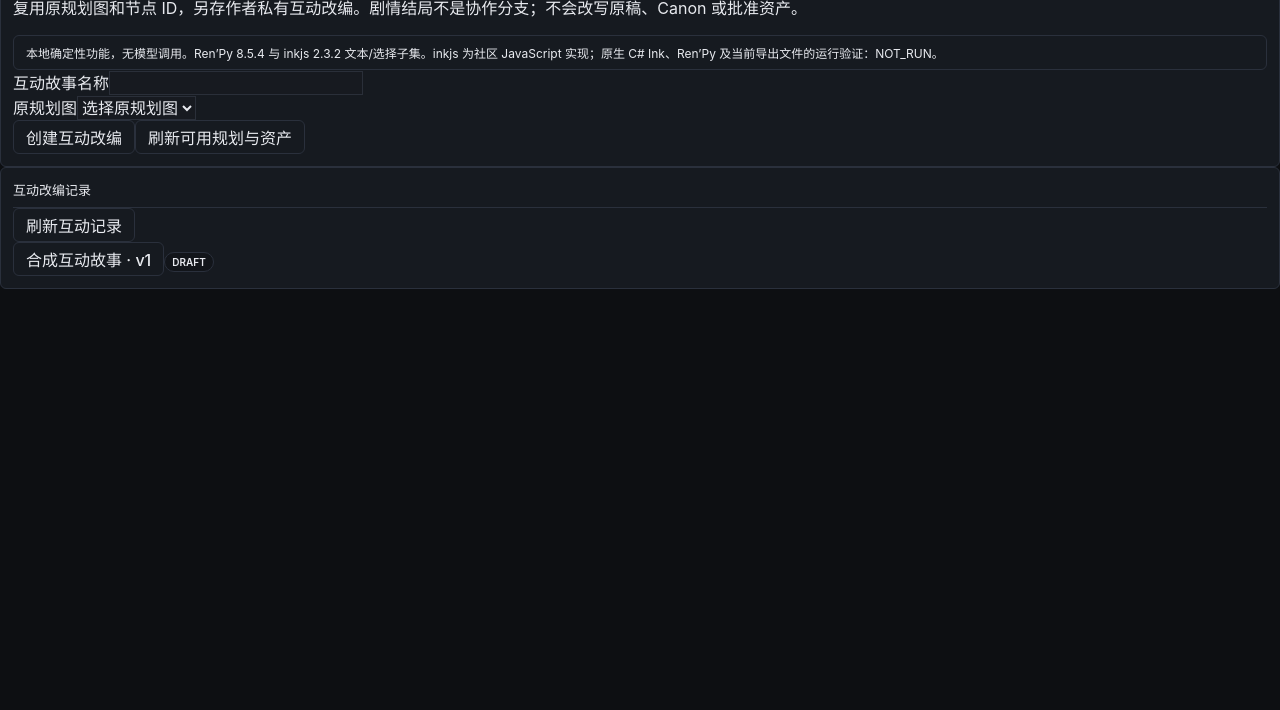
Test: resets issue paging on a new saved version and locates by ID after node order changes
Click the button "合成互动故事 · v1" at (89, 259), box [13,242,164,276]
(page scrolled)
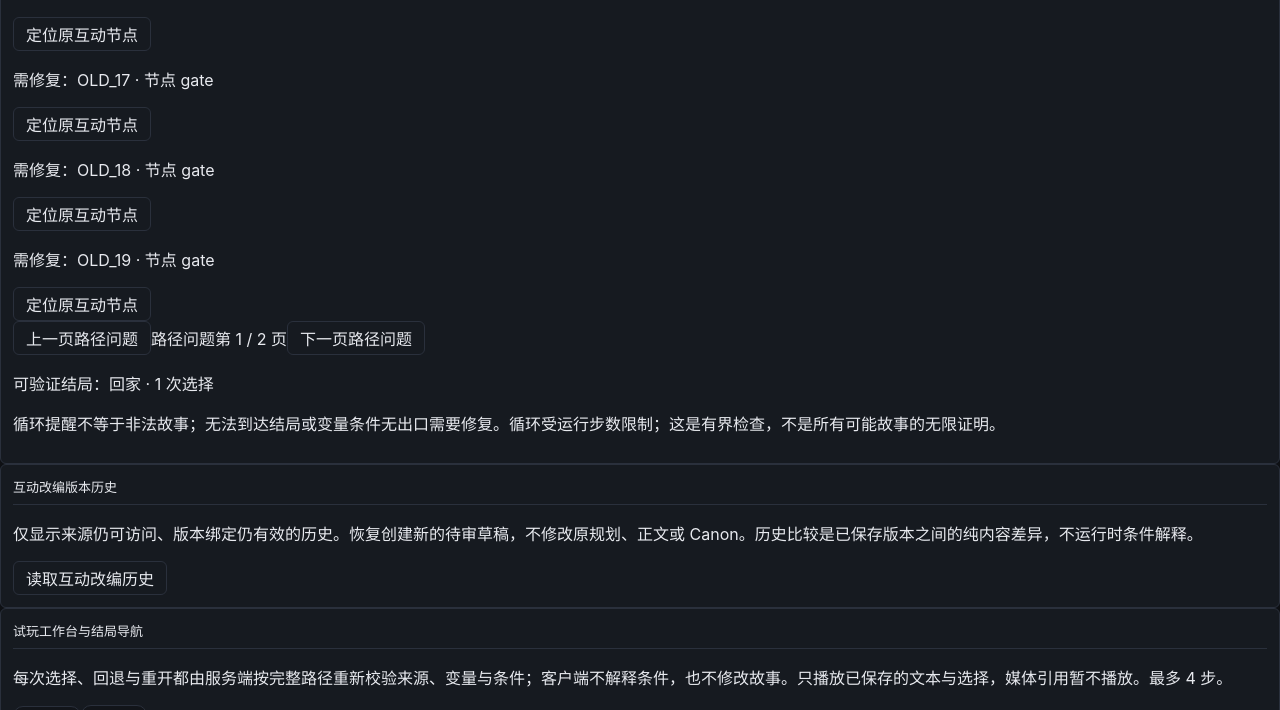
Click the button "下一页路径问题" at (356, 338), box [287,321,425,355]
(page scrolled)
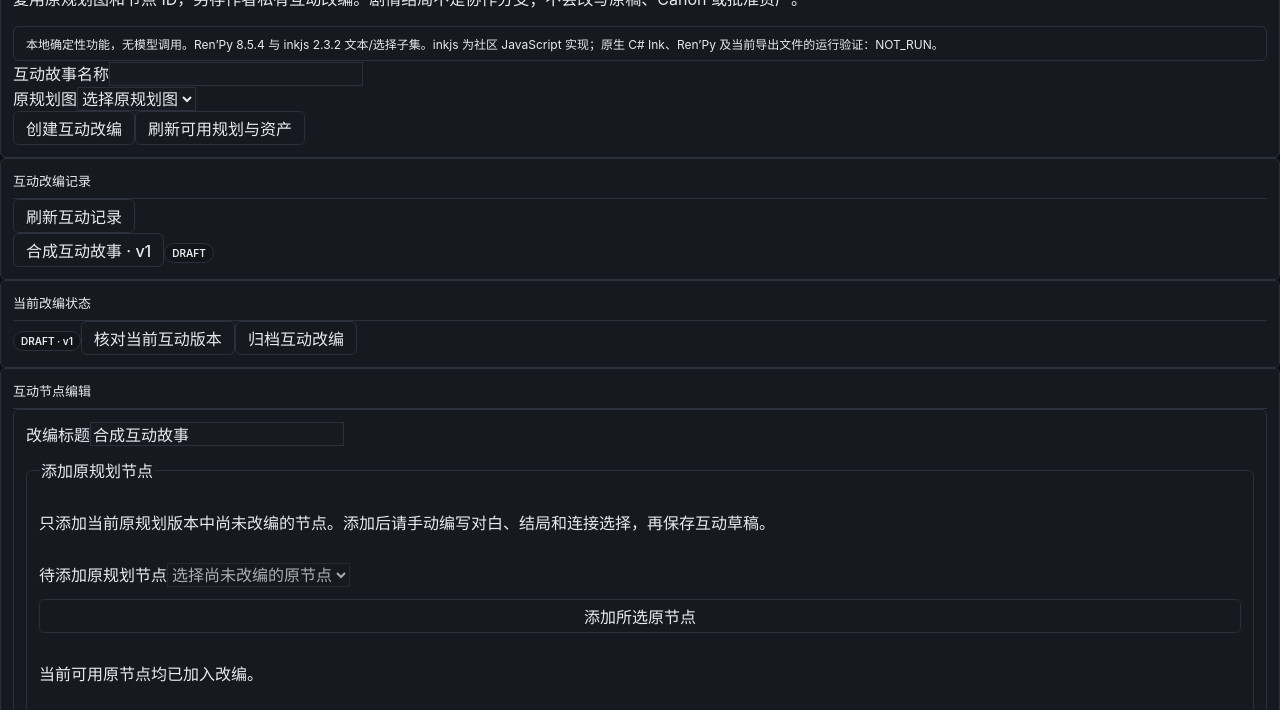
Click the button "核对当前互动版本" at (158, 338), box [81,321,235,355]
(page scrolled)
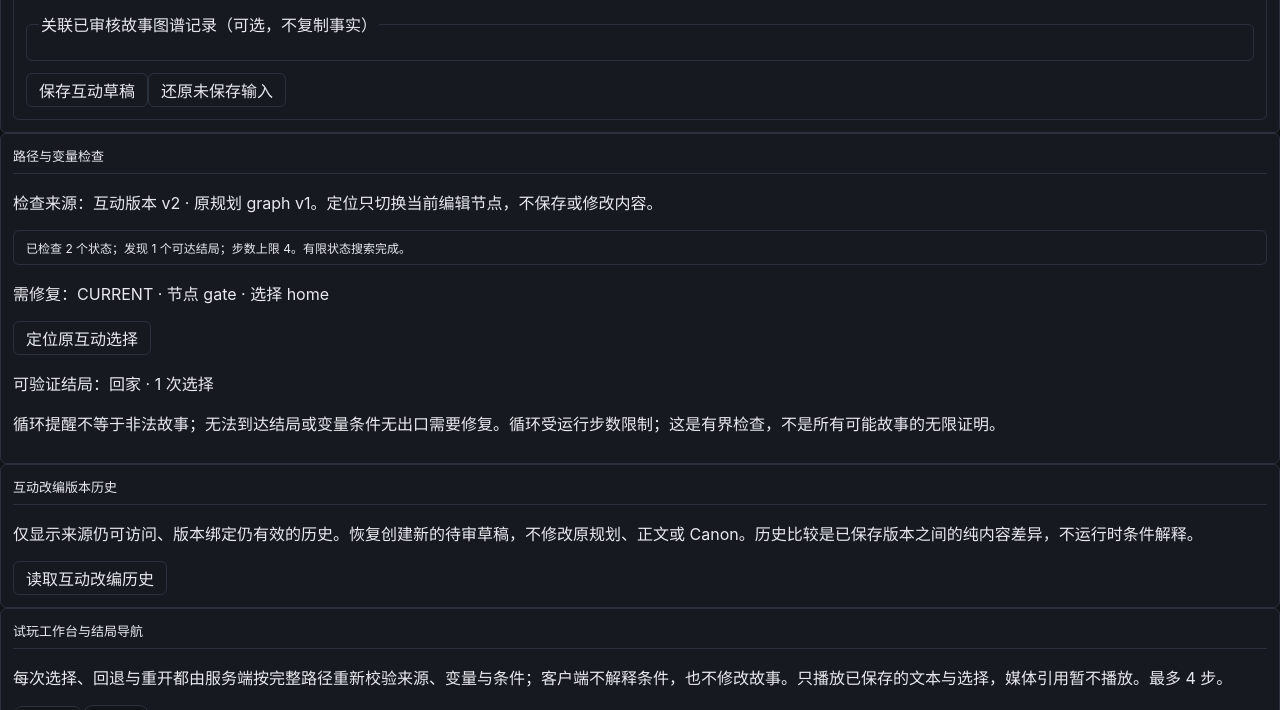
Click the button with aria-label "定位 CURRENT 节点 gate 选择 home" at (82, 338), box [13,321,151,355]
(page scrolled)
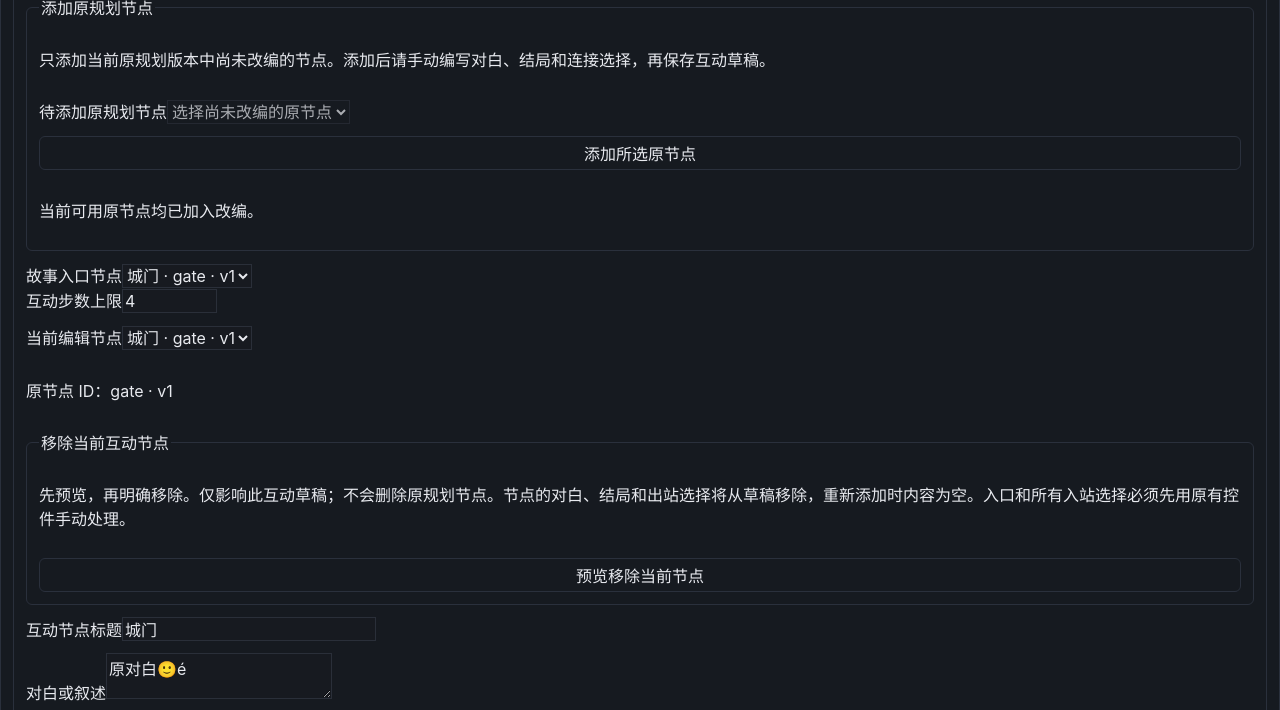
Expected: the dropdown labelled "当前编辑节点" shows "城门 · gate · v1", [122,326,252,350]
